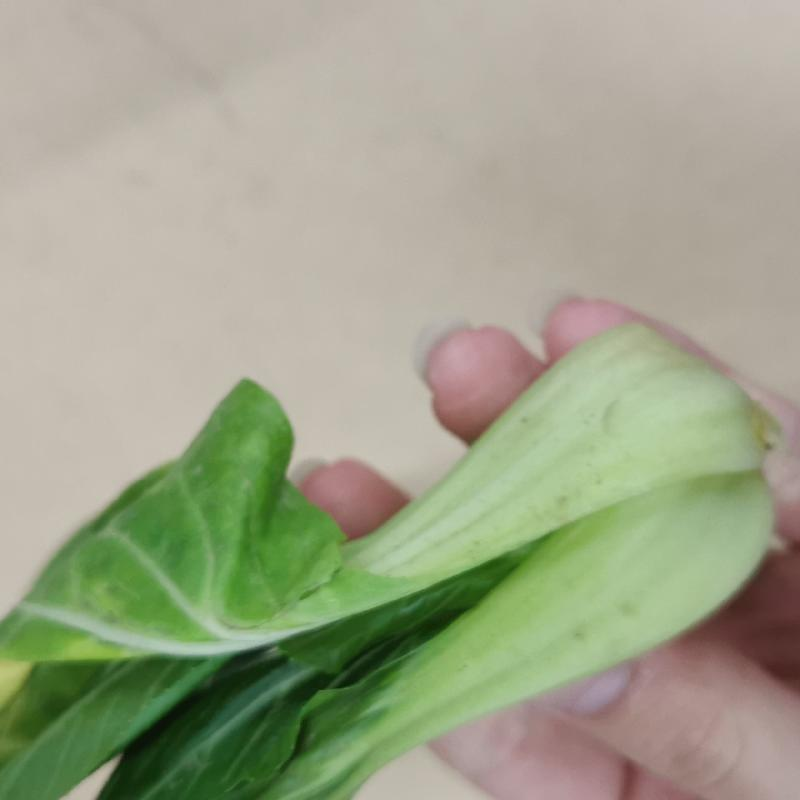green vegatable: (18, 291, 800, 800)
